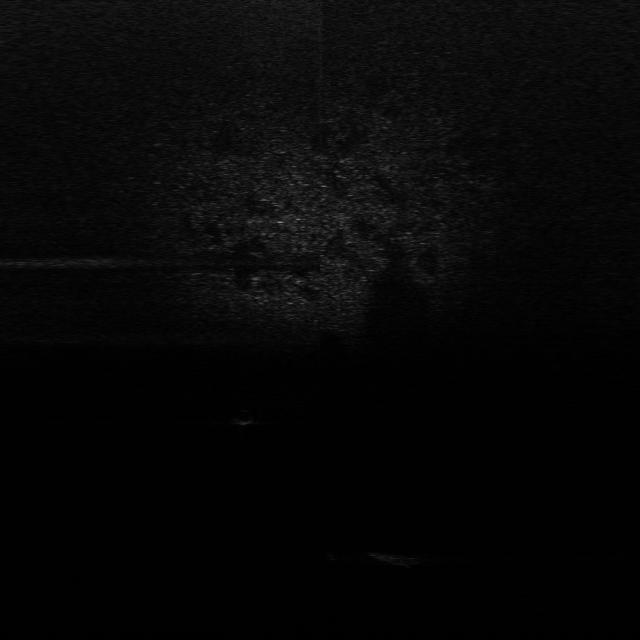ball: (230, 406, 260, 430)
metal bucket: (368, 530, 429, 569)
